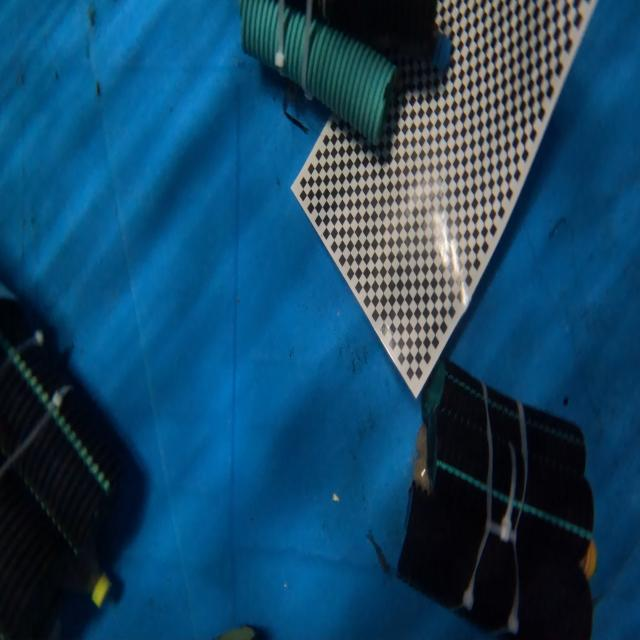prawn: (367, 532, 391, 574)
